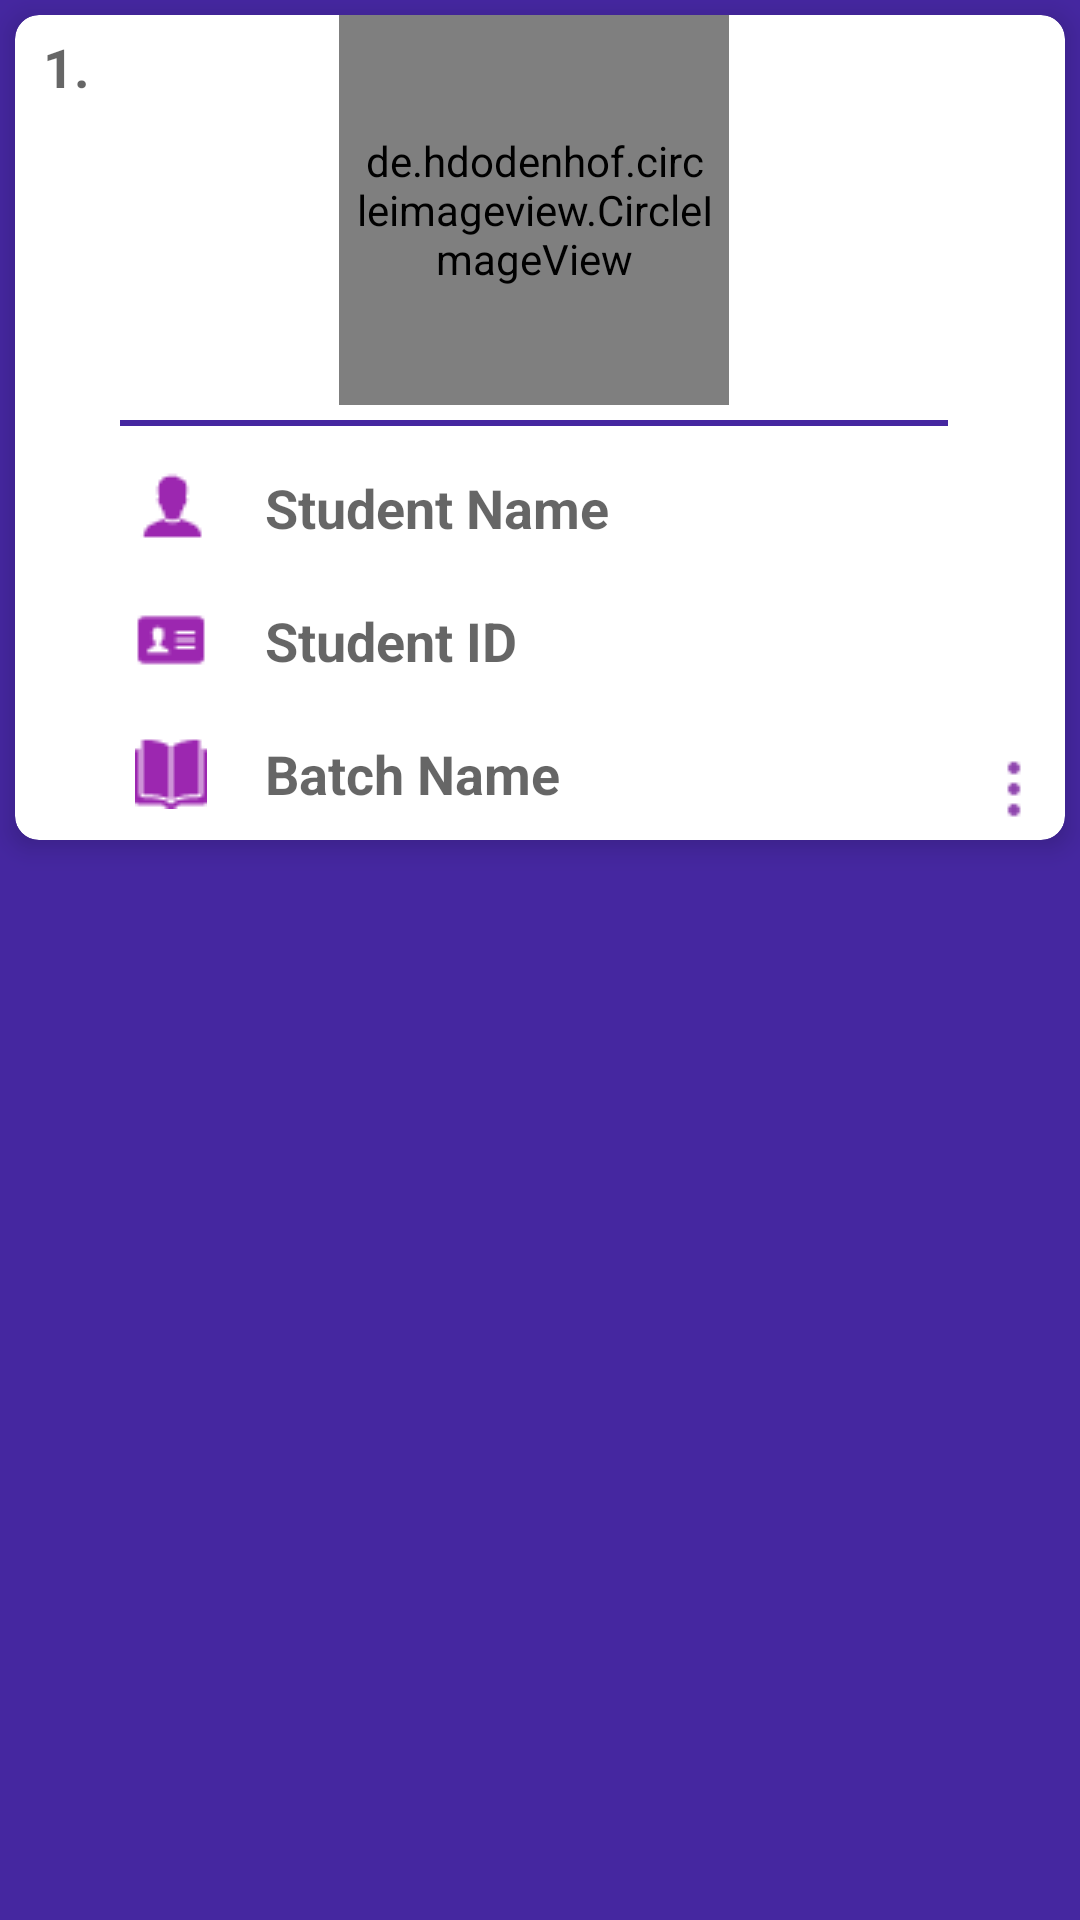

Named icons in this screenshot (1080px x 1920px) and their bounding boxes, bbox=[x1, y1, x2, y2]:
more: bbox=[1007, 761, 1021, 817]
